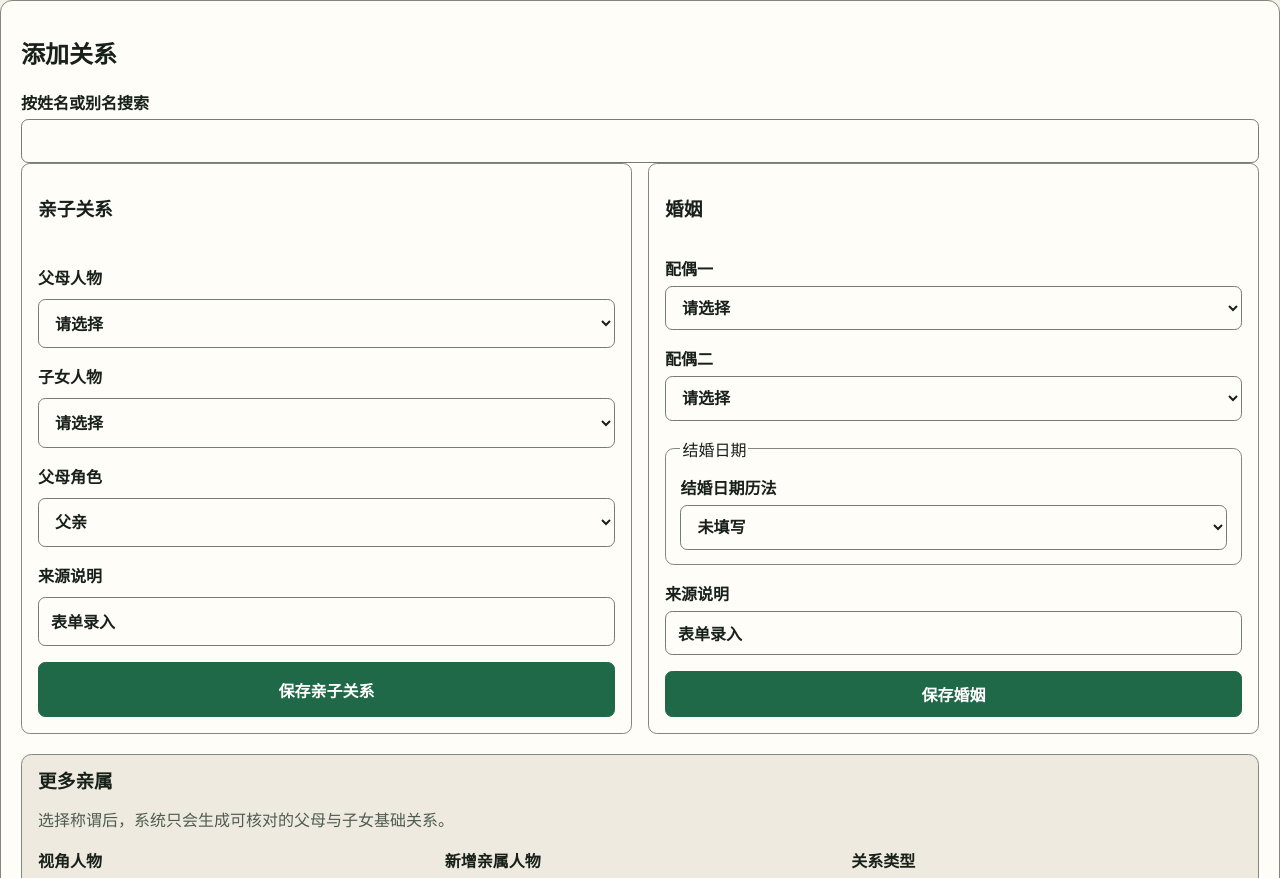
Test: RelationshipEditor › keeps the advanced pairwise marriage flow on the staged mutation path
Select "｜张国强" in the dropdown labelled "配偶一". click: coordinates (954, 308)
box: [665,286,1242,330]
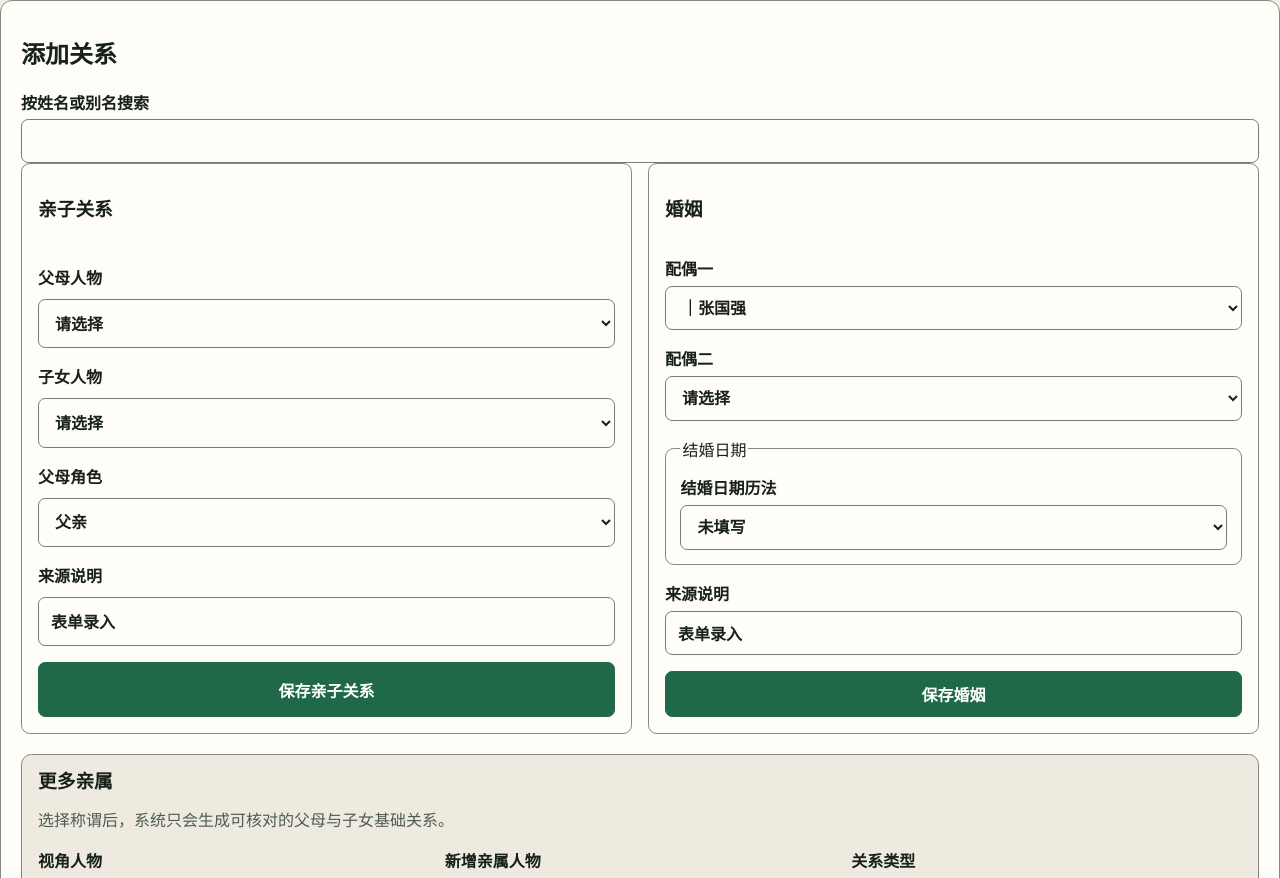
Select "｜张敏" in the dropdown labelled "配偶二". click: coordinates (954, 398)
box: [665,376,1242,421]
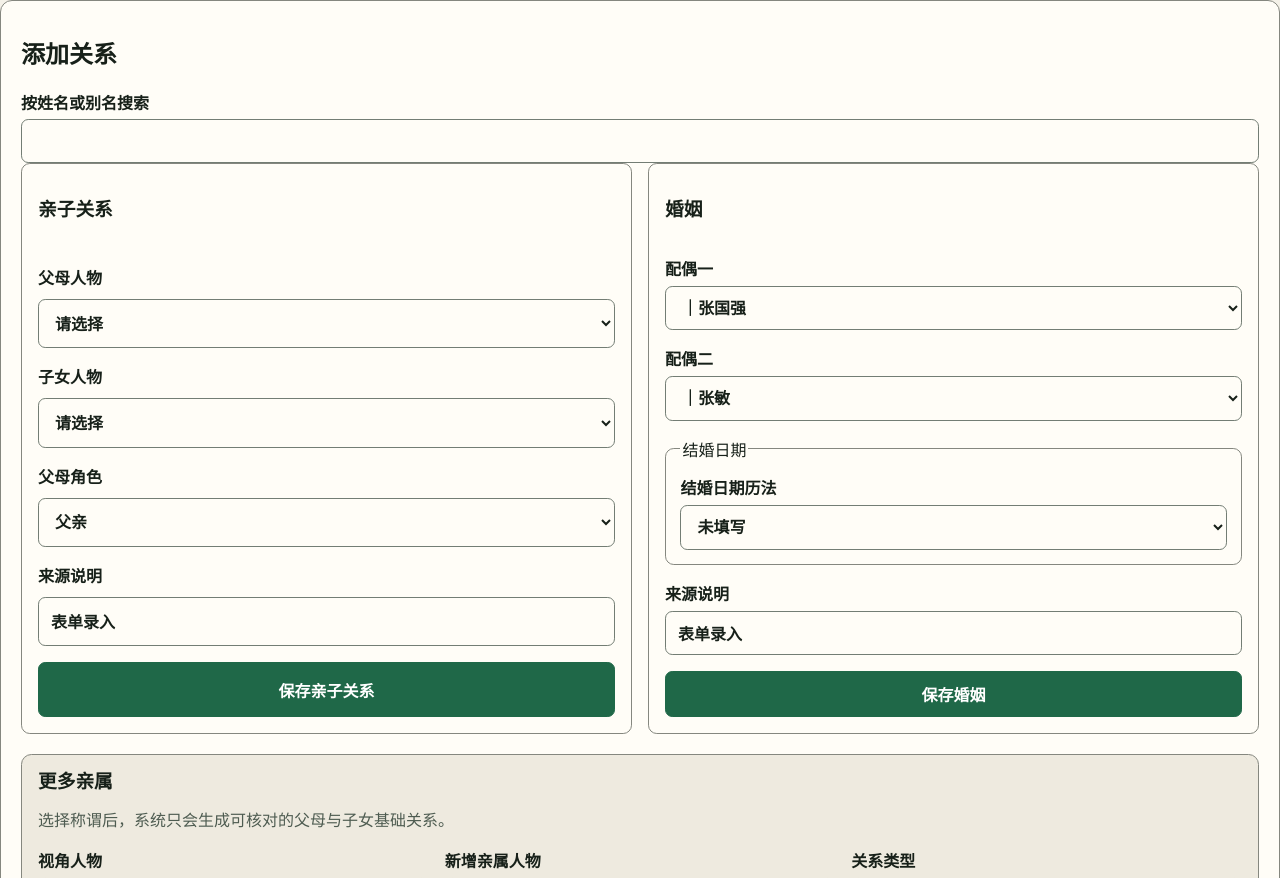
Click the button "保存婚姻". click: coordinates (954, 694)
box: [665,671,1242,717]
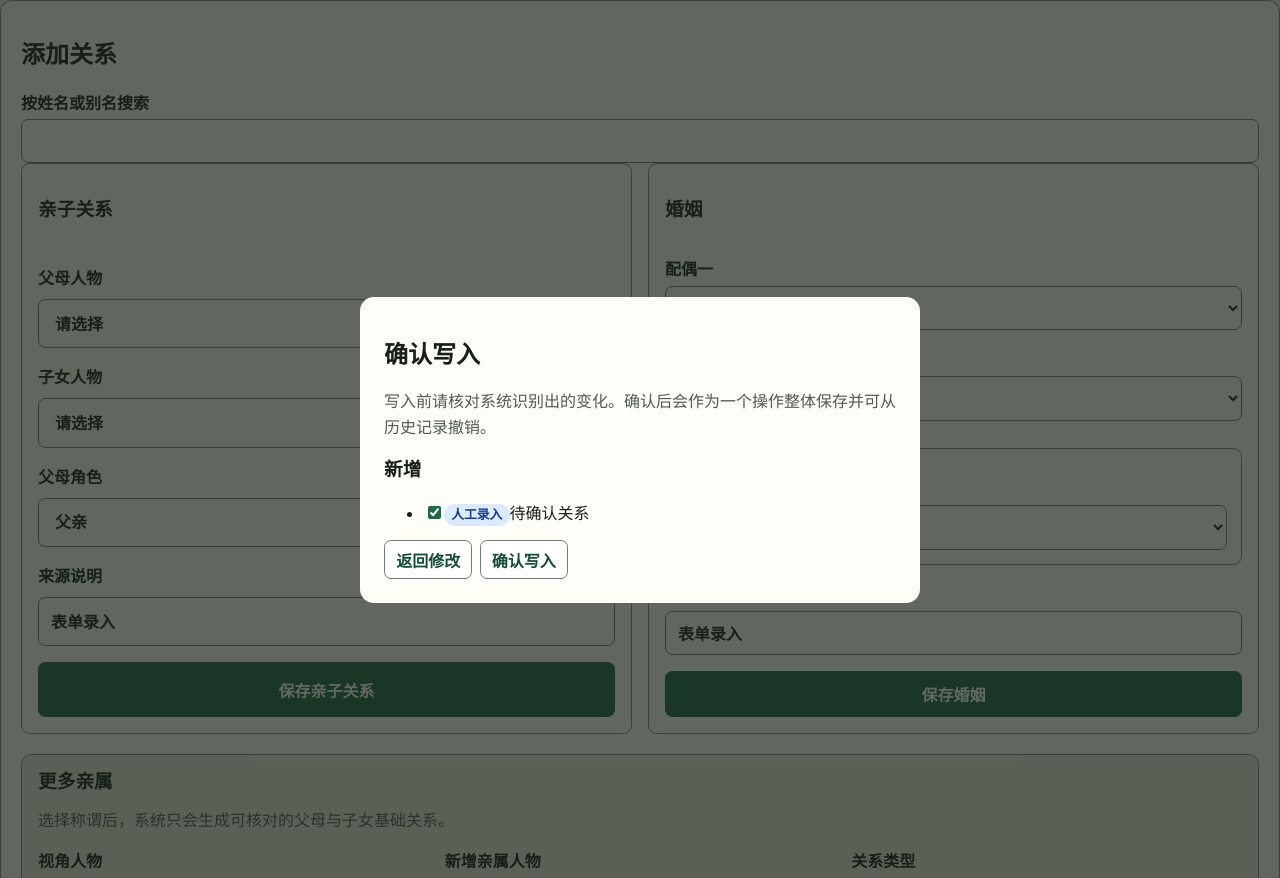
Check: the dialog "确认写入" is shown, box [360,297,920,603]
